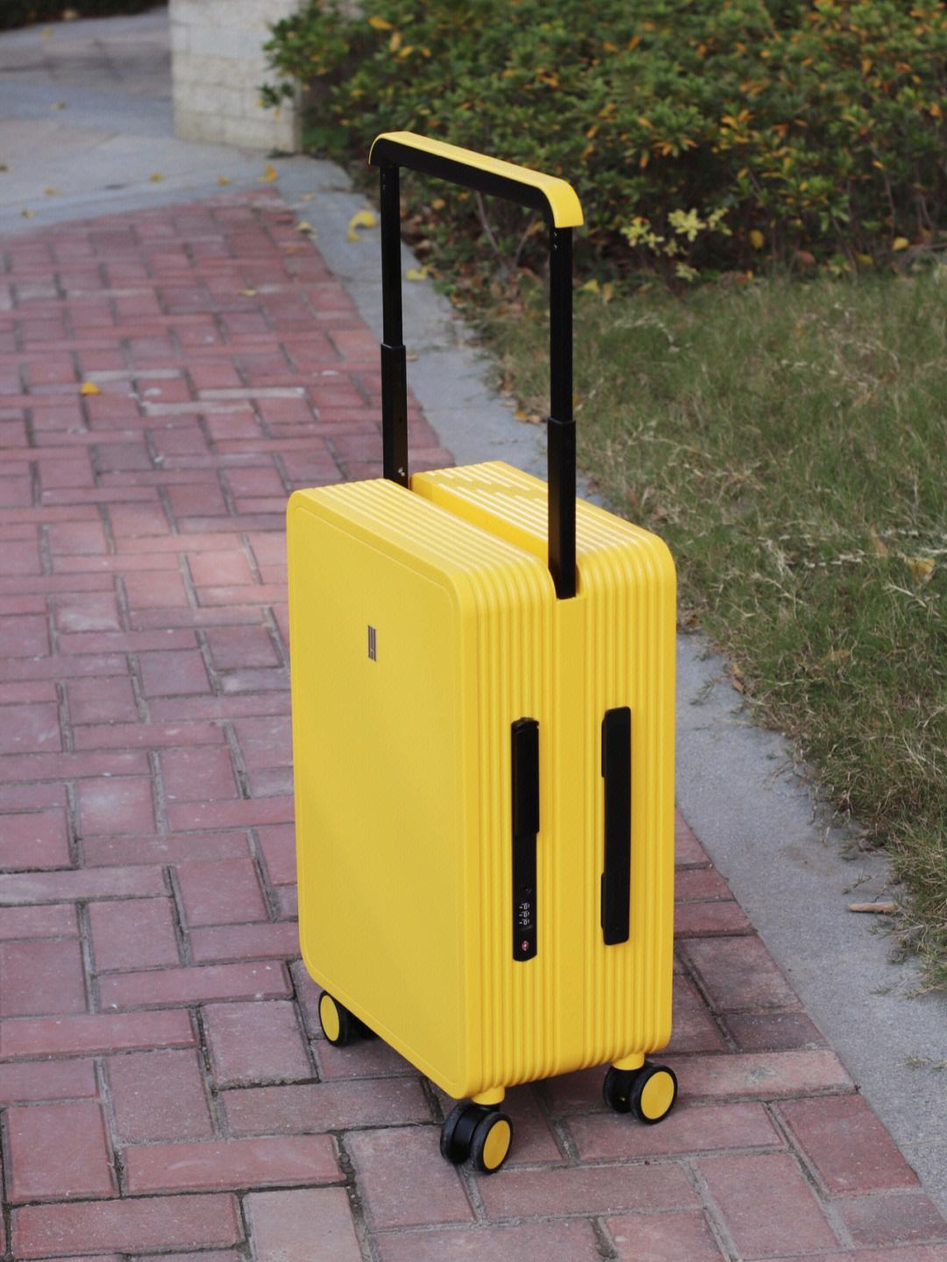box: (285, 460, 679, 1102)
handle: (599, 703, 630, 946)
lock: (513, 886, 539, 962)
wheel: (439, 1098, 513, 1175), (603, 1059, 678, 1126), (317, 986, 369, 1046)
